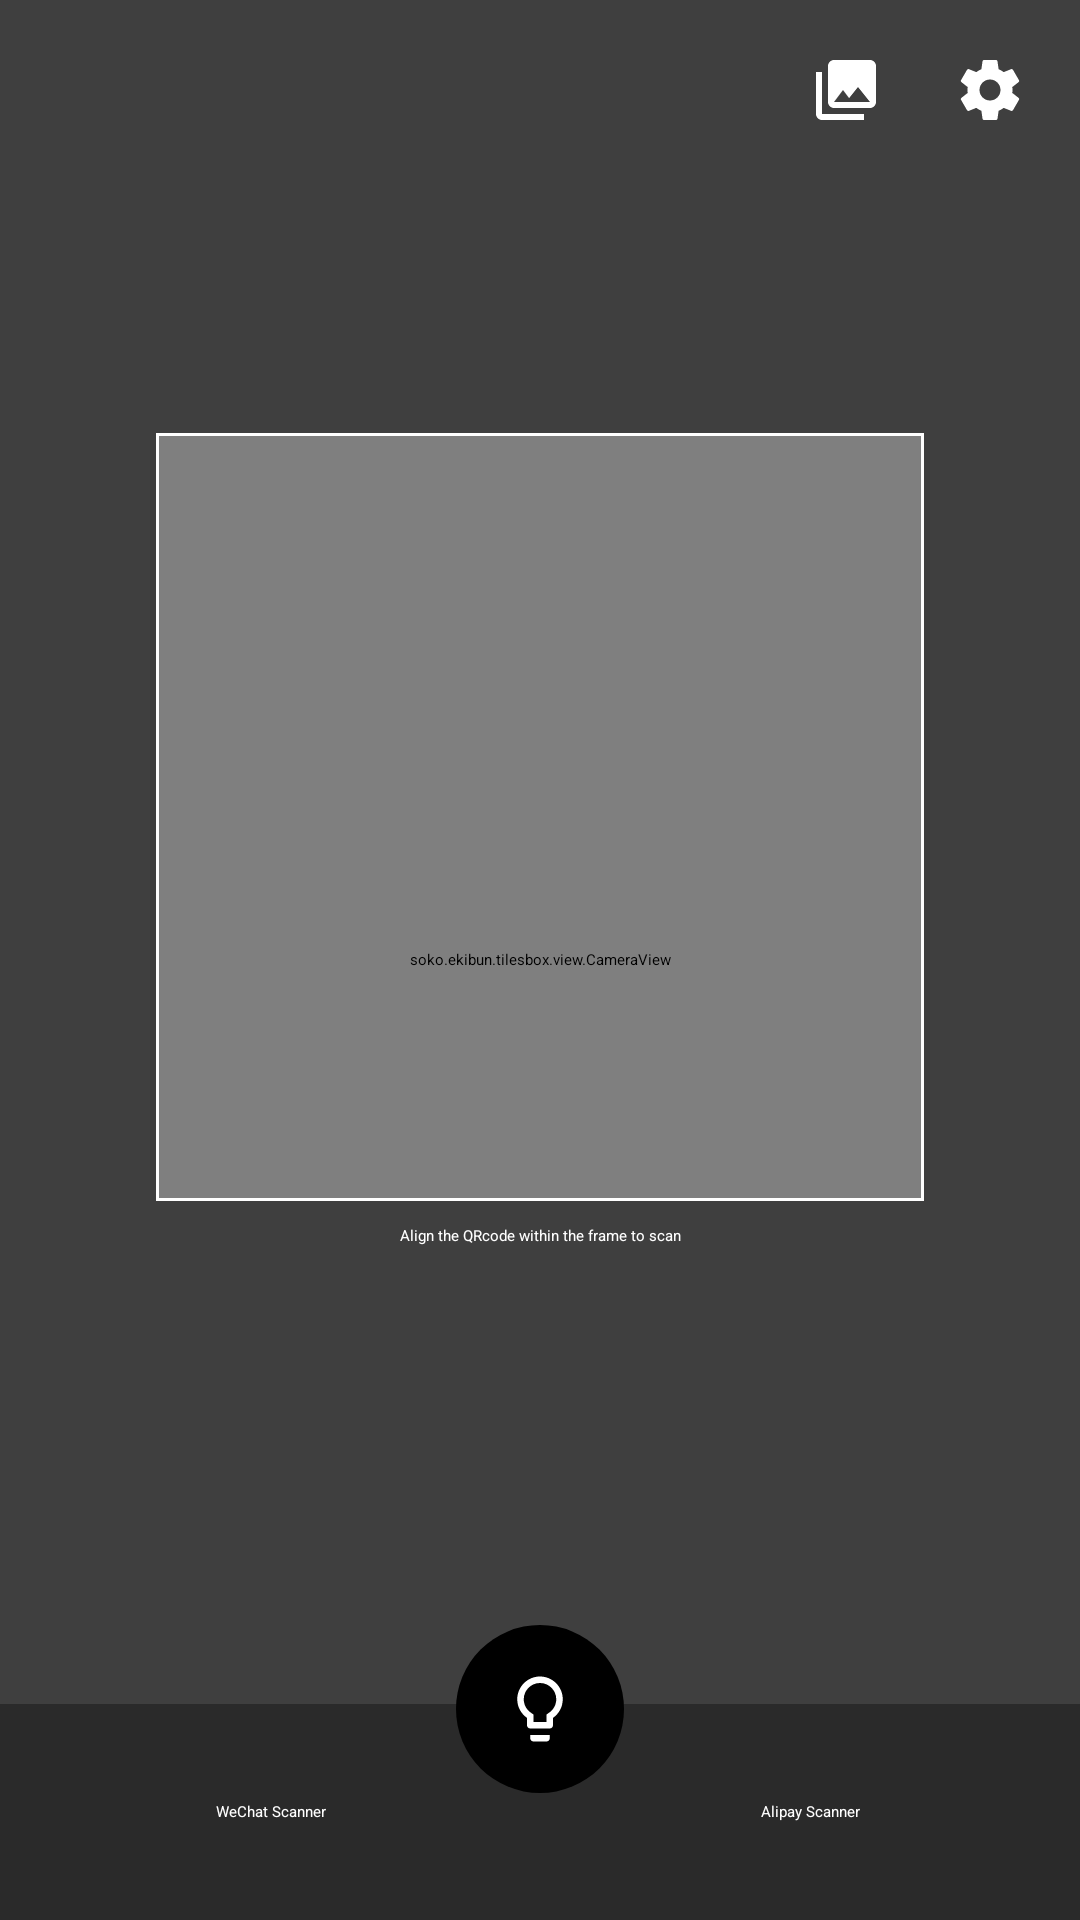

Icons on this 1080w x 1920h Android screen, each with its box as BBox(x1, y1, x2, y2):
gallery: BBox(816, 60, 876, 120)
lightbulb: BBox(456, 1625, 624, 1793)
settings: BBox(961, 60, 1019, 120)
